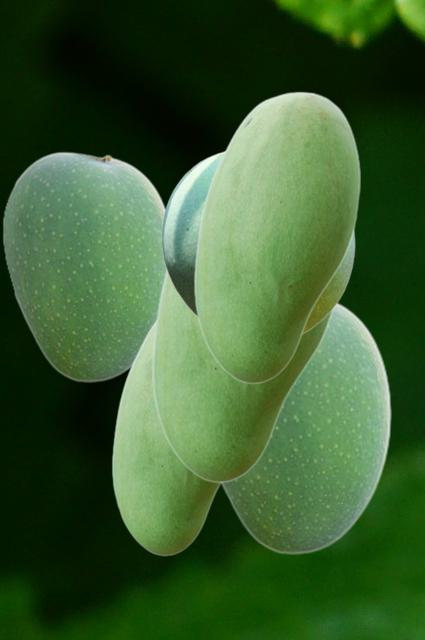green_mango: (193, 91, 359, 383), (220, 302, 391, 553), (151, 267, 336, 482), (2, 151, 165, 381), (161, 148, 354, 336), (111, 322, 222, 555)
